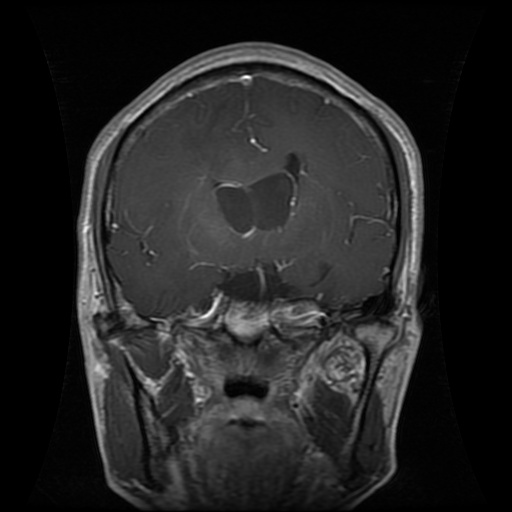glioma: (214, 148, 305, 236)
